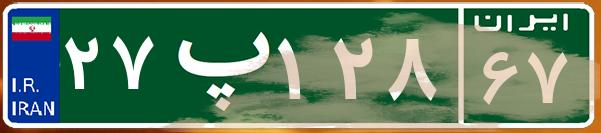1: (273, 28, 330, 110)
2: (330, 28, 385, 110), (57, 26, 110, 107)
6: (475, 38, 525, 113)
7: (110, 28, 158, 105), (525, 38, 570, 115)
8: (385, 28, 445, 110)
پ: (158, 15, 273, 115)
